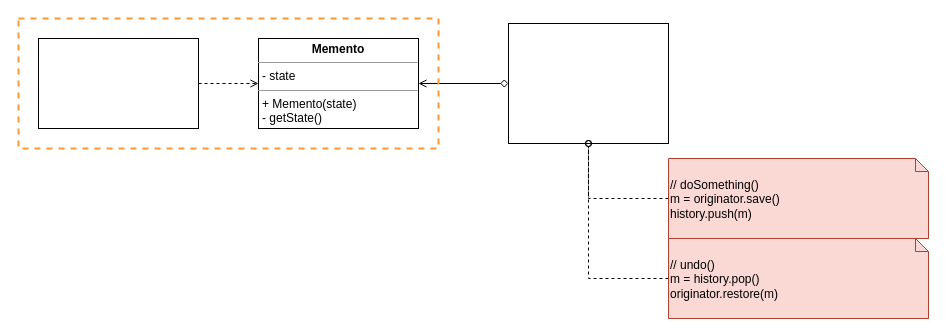
Image size: 946x336. Some labels were removed from this diagram. The shapes that lost their labels are listed below. From the top down, each one's box as (x1, y1, x2, y2) in pixels, then its label:
(38, 38, 198, 128): Originator - state + save(): Memento + restore(m: Memento)
(508, 22, 668, 144): Caretaker - originator - history: Memento[] + doSomething() + undo()
